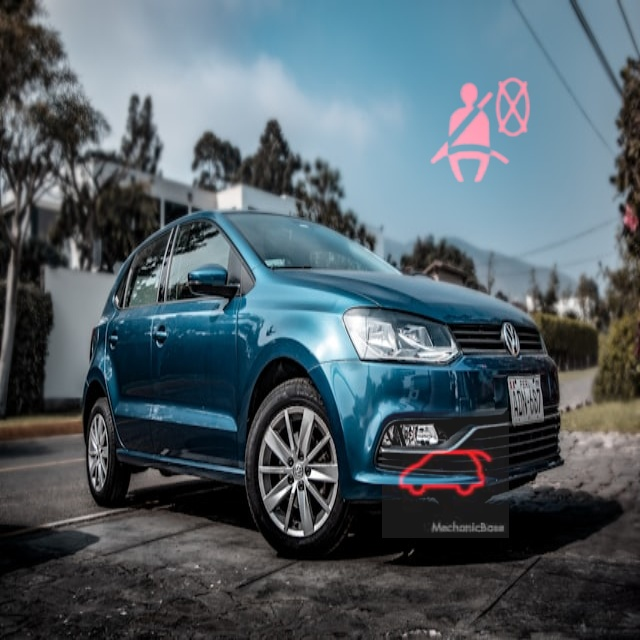symbol: (407, 57, 554, 204), (382, 411, 509, 538)
